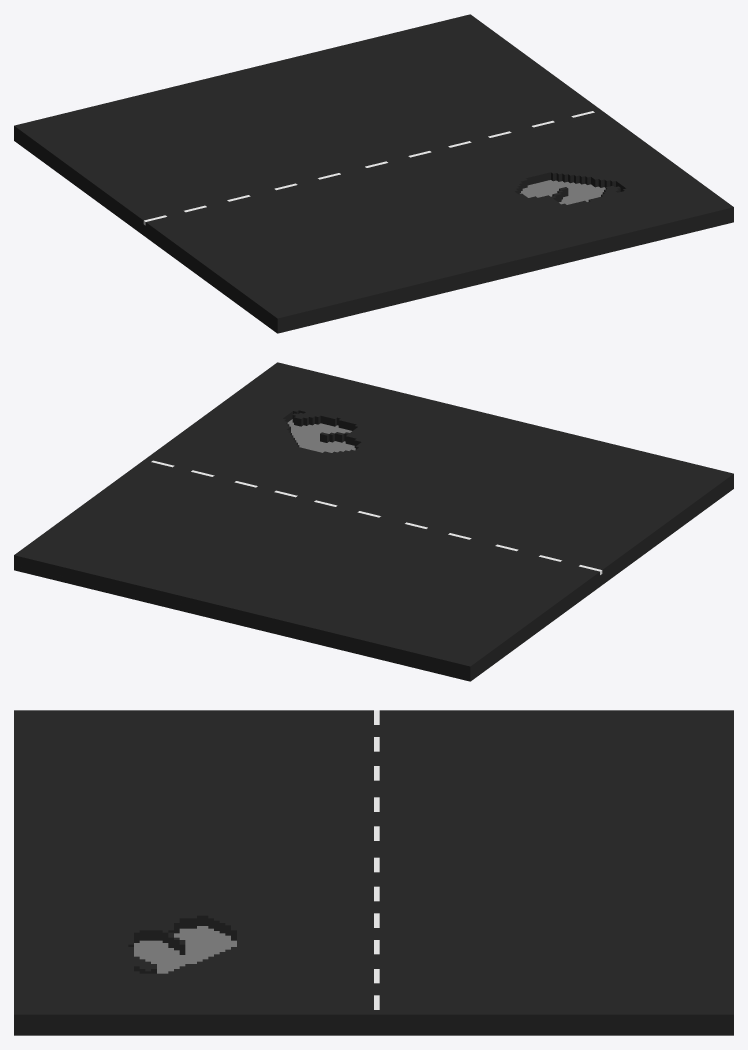
Rendered from Street-0.obj.
3 views of the same model, one above another, from view 1: azimuth 30°, elevation 25°; view 2: azimuth 150°, elevation 25°; view 3: azimuth 270°, elevation 25° (orthographic). The views are drawn at different scales.
Size of the model in its own units: 12.6 by 0.4 by 12.6.
Materials: 1 (1 with a texture image).
